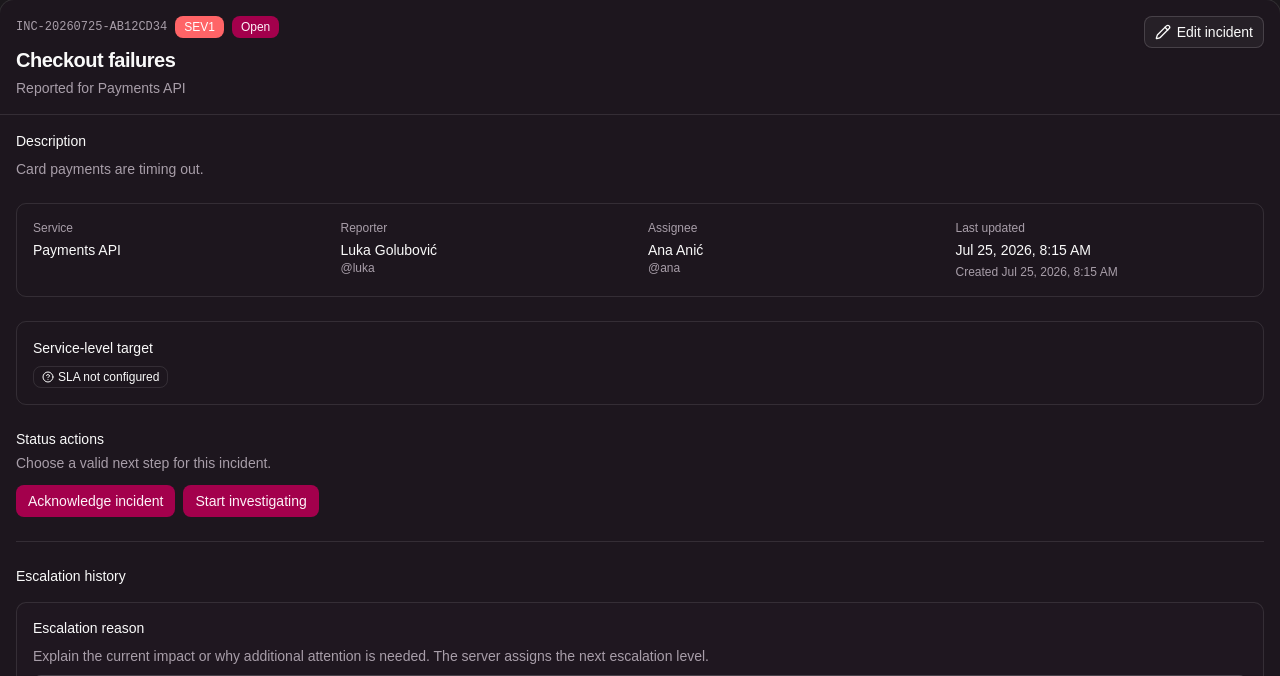
IncidentDetailPanel › shows only server-allowed status actions and replaces detail after success
Check: the button "Start investigating" is shown, box left=183, top=485, right=319, bottom=517
Step 1. Click the button "Acknowledge incident" → x=96, y=501, box left=16, top=485, right=175, bottom=517
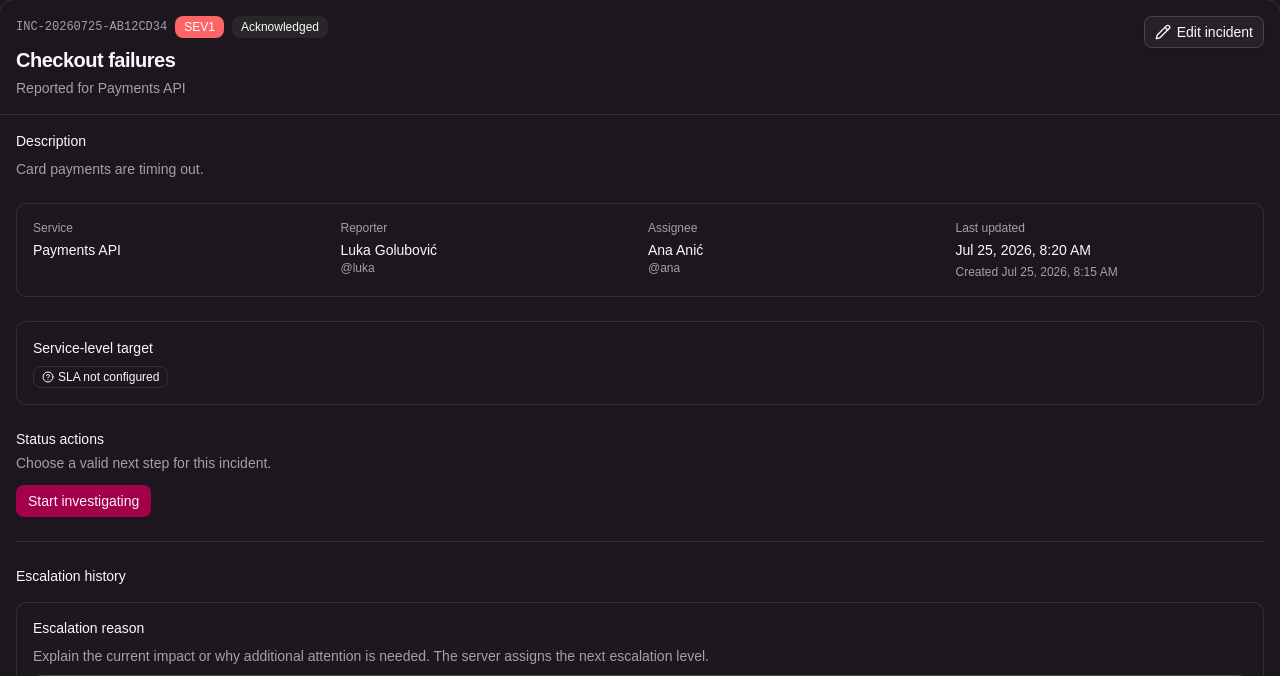
Check: the button "Start investigating" is shown, box left=16, top=485, right=151, bottom=517
Check: the button "Acknowledge incident" is gone
